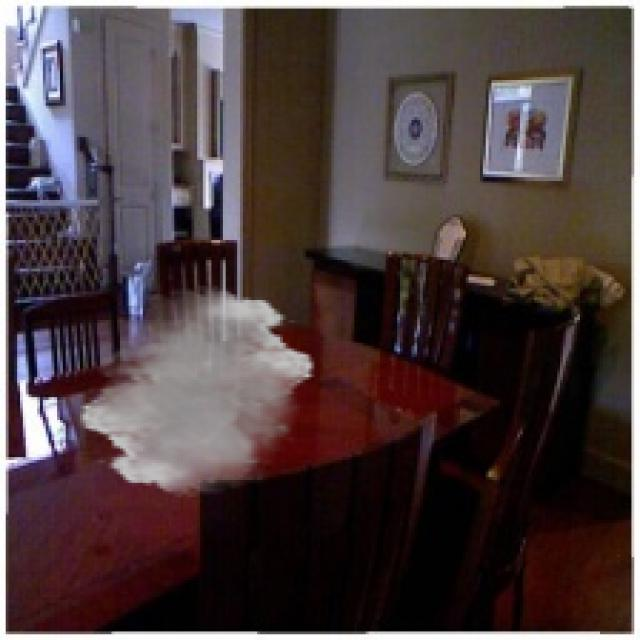smoke: (77, 286, 317, 497)
